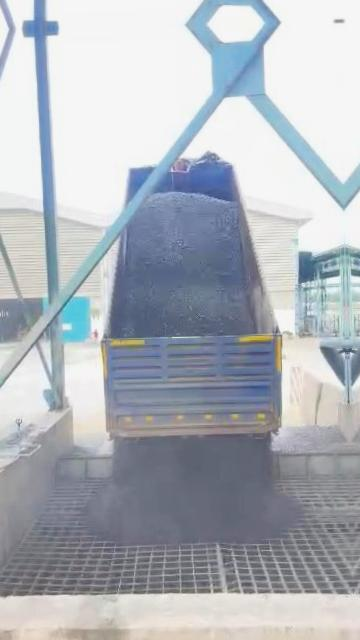gravel: (87, 435, 299, 545), (112, 192, 255, 337), (273, 427, 350, 455)
